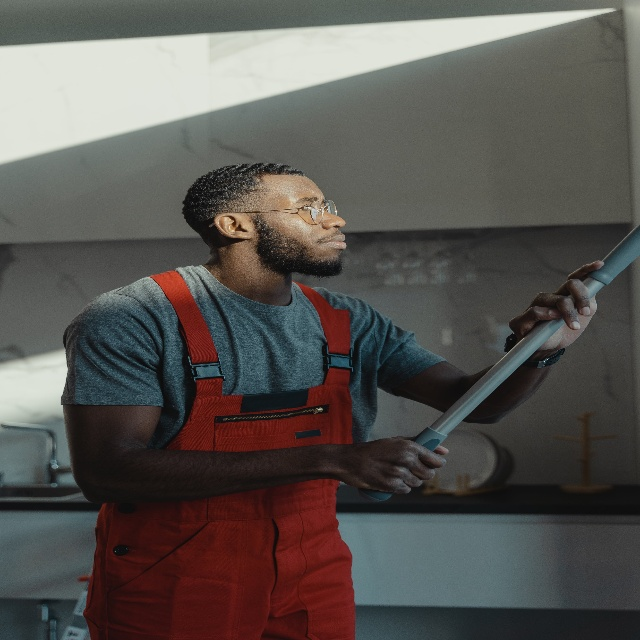Gafas: (209, 199, 337, 225)
Sin_guantes: (509, 260, 604, 351), (344, 436, 449, 495)
